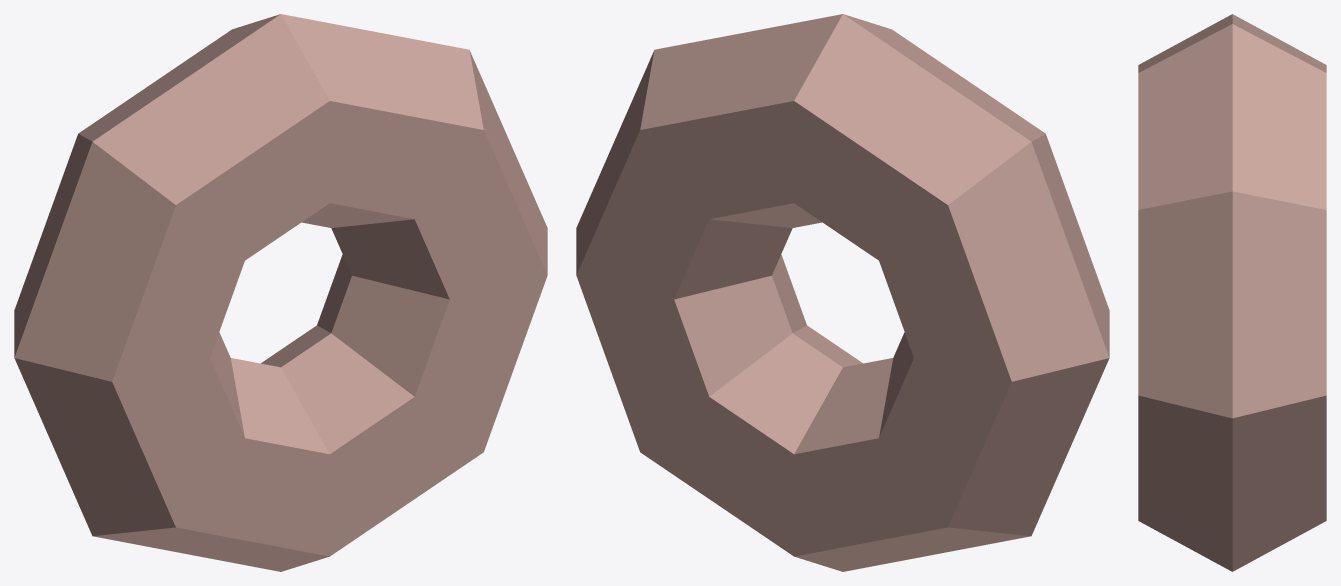
The picture shows the model from 3 angles, left to right: view 1: azimuth 30°, elevation 25°; view 2: azimuth 150°, elevation 25°; view 3: azimuth 270°, elevation 25°; orthographic projection. The views are drawn at different scales.
Parts seen in each view (by area): view 1: part0; view 2: part0; view 3: part0.
Boxes of the visible parts, x1,y1,x2,y2 form: part0: [14, 14, 547, 571]; part0: [576, 14, 1109, 571]; part0: [1138, 14, 1326, 571].
Size of the model in its own units: 3 by 3 by 0.9526.
